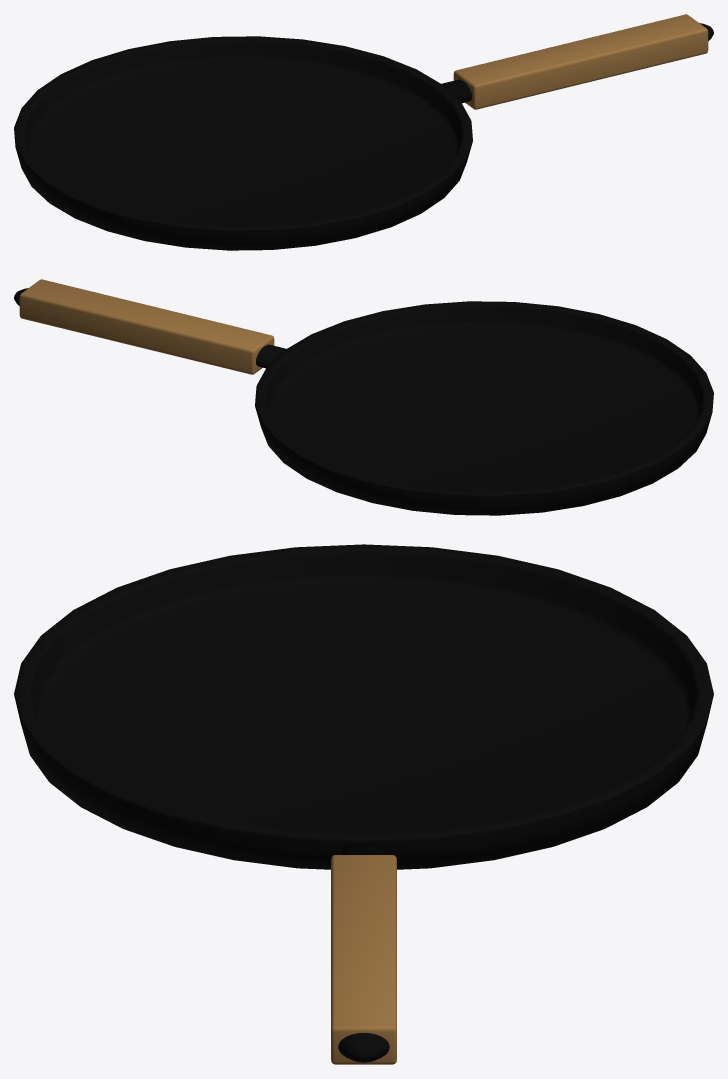
Rendered from Tava.fbx.
3 renders of one model, top to bottom at view 1: azimuth 30°, elevation 25°; view 2: azimuth 150°, elevation 25°; view 3: azimuth 270°, elevation 25°, orthographic. The views are drawn at different scales.
Parts seen in each view (by area): view 1: Cylinder; view 2: Cylinder; view 3: Cylinder.
Boxes of the visible parts, x1=… form: Cylinder: x1=14, y1=14, x2=713, y2=250; Cylinder: x1=14, y1=279, x2=713, y2=515; Cylinder: x1=14, y1=544, x2=713, y2=1064.
Bounding box in the file's own units: 334 × 11.99 × 199.
